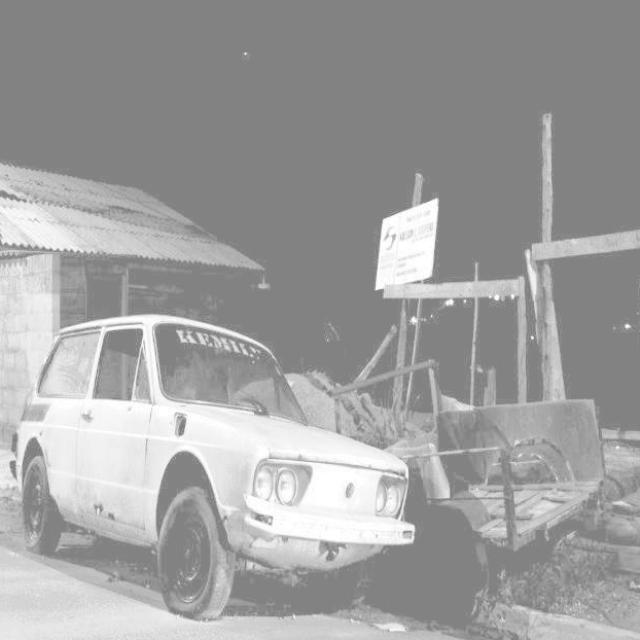Car: (22, 307, 447, 640)
